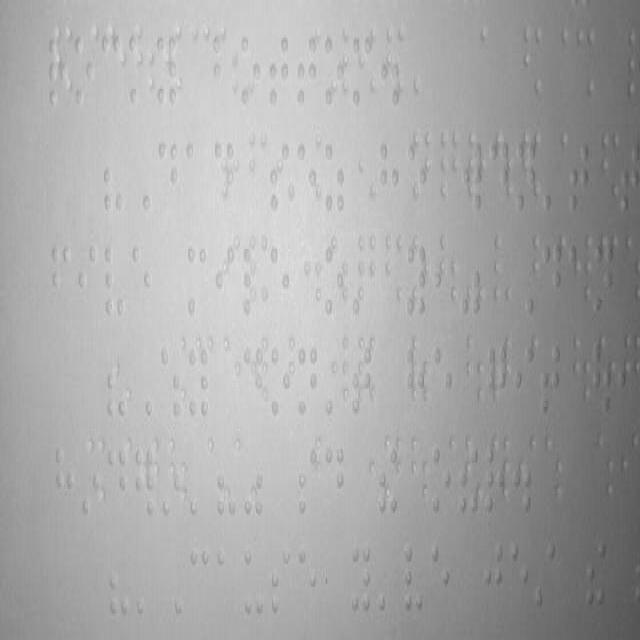braiile: (188, 540, 216, 620), (348, 536, 374, 620), (378, 140, 402, 229), (566, 141, 592, 223), (50, 238, 74, 322), (216, 540, 240, 624), (98, 30, 122, 112), (296, 137, 320, 219), (324, 140, 348, 220), (185, 138, 209, 218), (156, 138, 180, 218), (514, 342, 538, 422), (482, 538, 506, 618), (430, 540, 454, 620), (242, 542, 266, 622), (102, 241, 126, 319), (540, 241, 564, 319), (269, 346, 293, 424), (105, 443, 129, 521), (296, 441, 320, 519), (269, 543, 293, 621), (187, 242, 210, 322), (488, 140, 512, 216), (540, 344, 564, 420), (297, 541, 321, 615), (74, 31, 96, 111), (296, 34, 318, 114), (131, 242, 153, 322), (54, 440, 76, 520), (510, 538, 532, 618), (211, 34, 233, 112), (268, 32, 290, 110), (592, 243, 614, 321), (78, 240, 99, 320), (187, 348, 210, 421), (618, 142, 640, 218), (432, 342, 454, 418), (430, 442, 452, 518), (404, 540, 426, 616), (484, 447, 506, 522), (270, 240, 290, 320), (324, 446, 346, 518), (324, 244, 344, 320), (298, 347, 318, 418)
